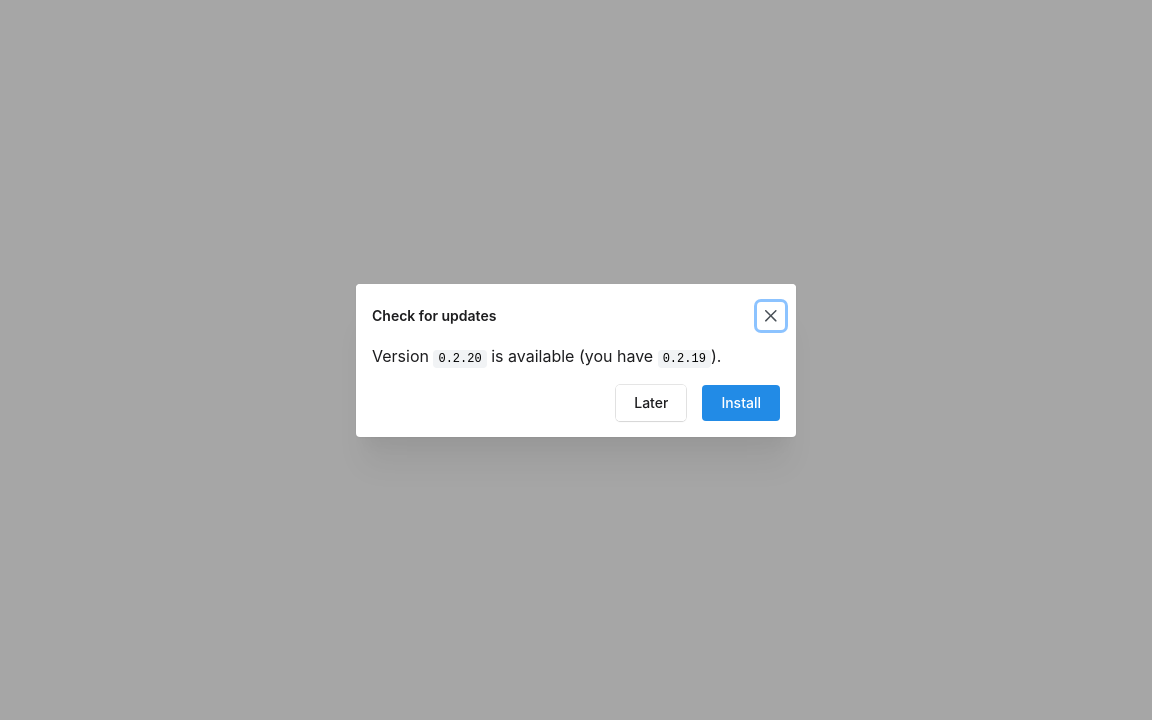
Test: UpdateChecker › keeps an install failure on screen instead of re-checking
Click the button "Install": (741, 402) 702,384 -> 780,420
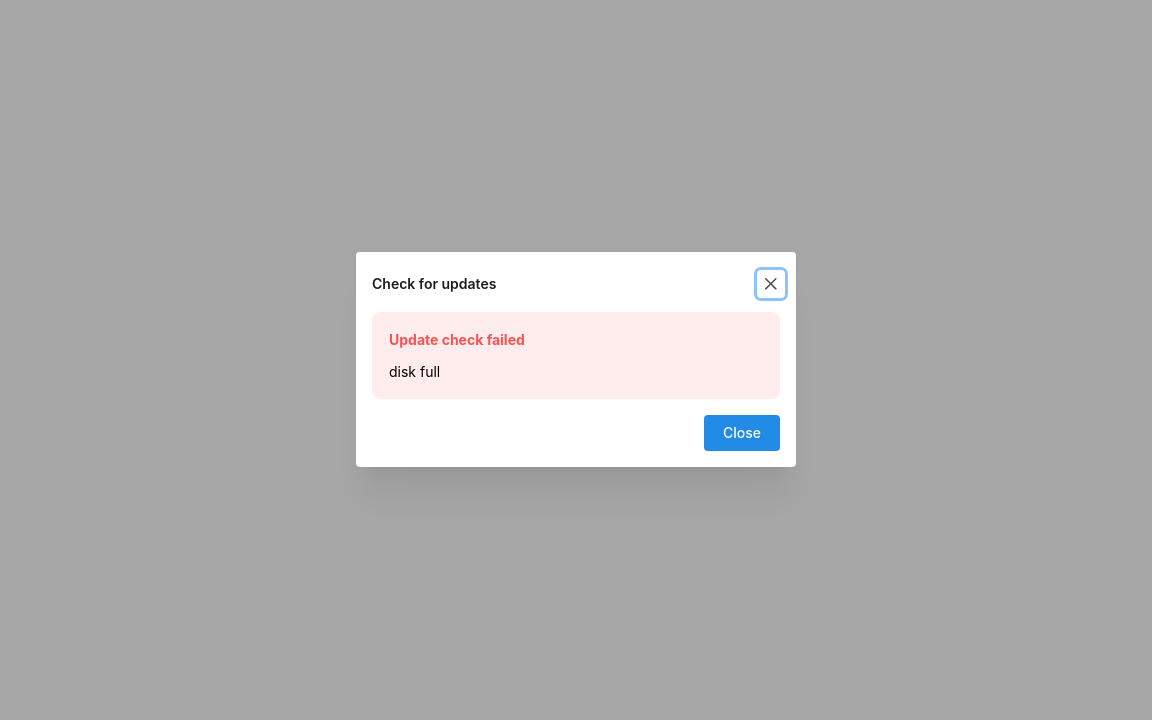
Check: the text "disk full" is shown, box 389,363 -> 440,380
